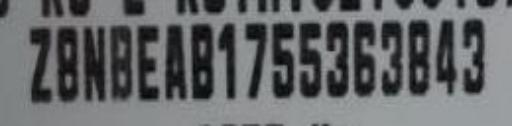letter: (52, 23, 82, 103), (322, 20, 352, 98), (186, 22, 216, 100), (350, 18, 378, 100), (80, 22, 108, 102), (242, 22, 270, 100), (26, 25, 54, 103), (434, 16, 460, 96), (162, 20, 188, 100), (406, 16, 432, 94), (460, 18, 486, 96), (270, 20, 296, 98), (108, 22, 134, 100), (134, 24, 160, 102), (298, 20, 322, 100), (214, 20, 238, 98), (378, 20, 402, 96)
